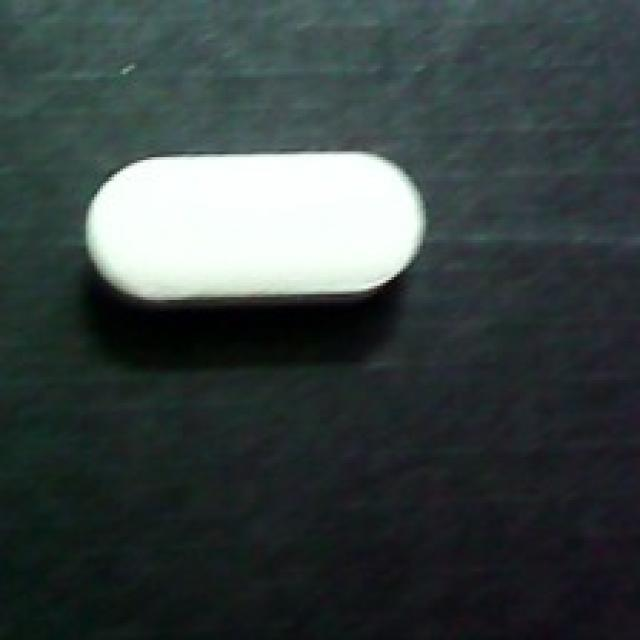no-defect: (83, 146, 429, 314)
